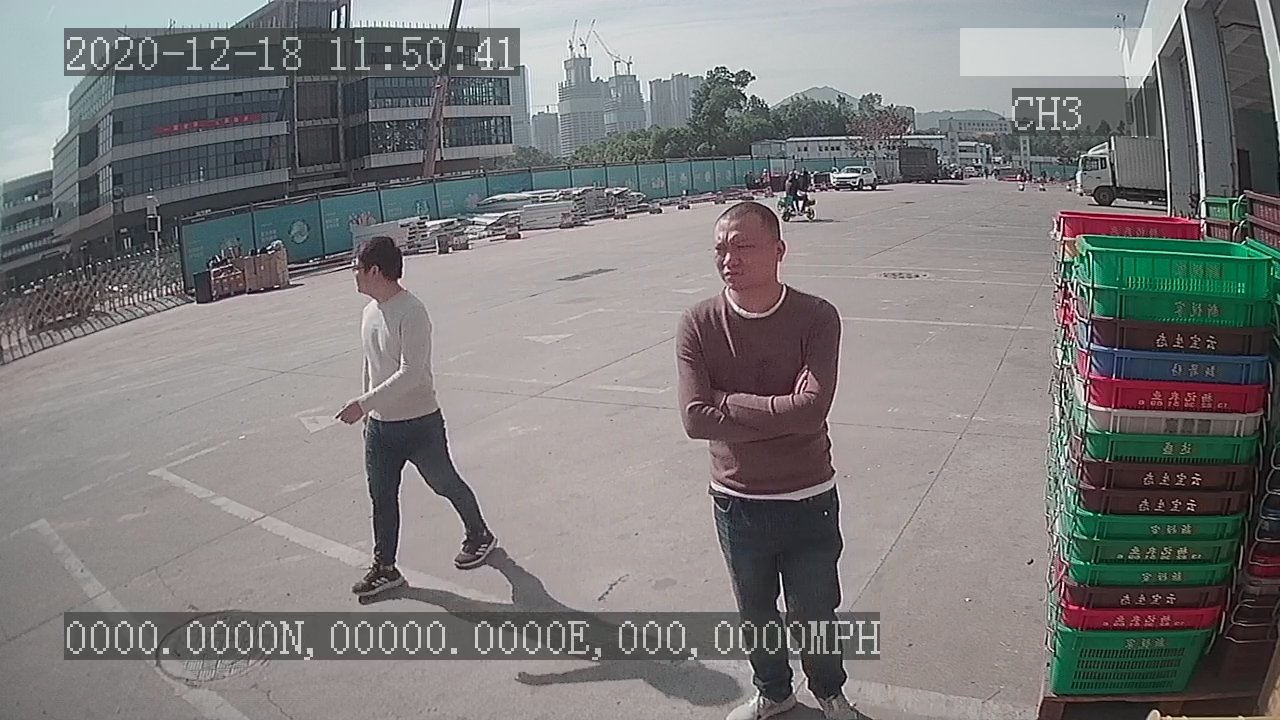person: (329, 235, 502, 602)
